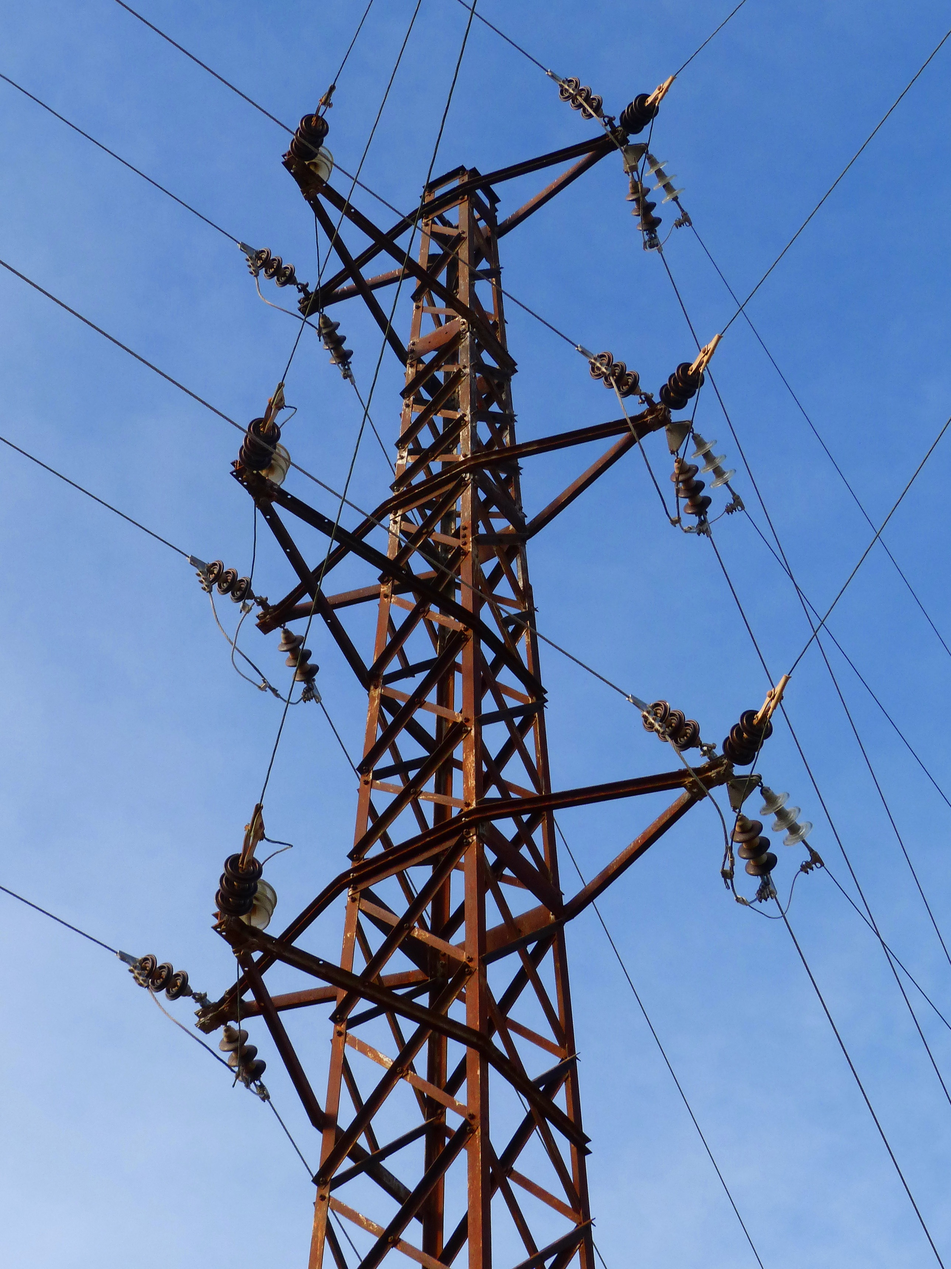insulator: (180, 549, 333, 723), (112, 955, 271, 1104), (727, 776, 833, 912), (250, 253, 363, 376), (673, 417, 749, 540), (625, 143, 696, 256), (224, 816, 284, 949), (240, 397, 298, 506), (628, 686, 718, 753), (580, 338, 658, 407), (302, 107, 345, 202), (554, 70, 608, 122)
